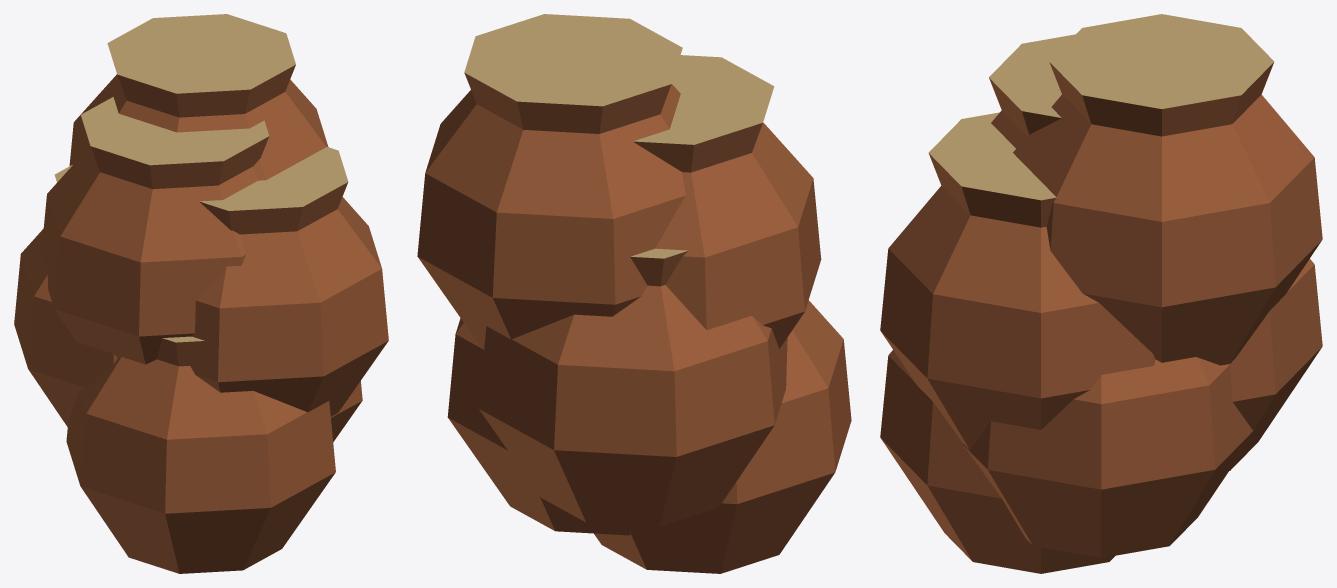
File: w3d_item_porridge_l.glb
3 views of the same model, side by side, from view 1: azimuth 30°, elevation 25°; view 2: azimuth 150°, elevation 25°; view 3: azimuth 270°, elevation 25° (orthographic). The views are drawn at different scales.
Visible parts, largest first — view 1: item_023_porridge_l; view 2: item_023_porridge_l; view 3: item_023_porridge_l.
Part boxes in pixels (x1,y1,x2,y2): item_023_porridge_l: (14, 14, 388, 573); item_023_porridge_l: (417, 14, 851, 573); item_023_porridge_l: (880, 14, 1322, 573).
Bounding box in the file's own units: 0.39 × 0.55 × 0.44.
